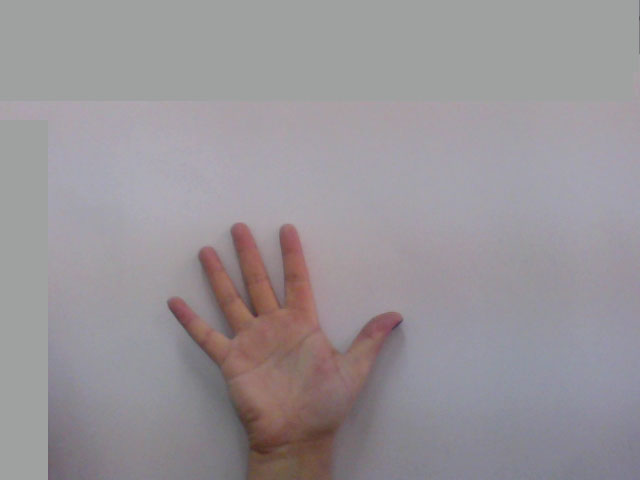hand: (154, 210, 414, 431)
